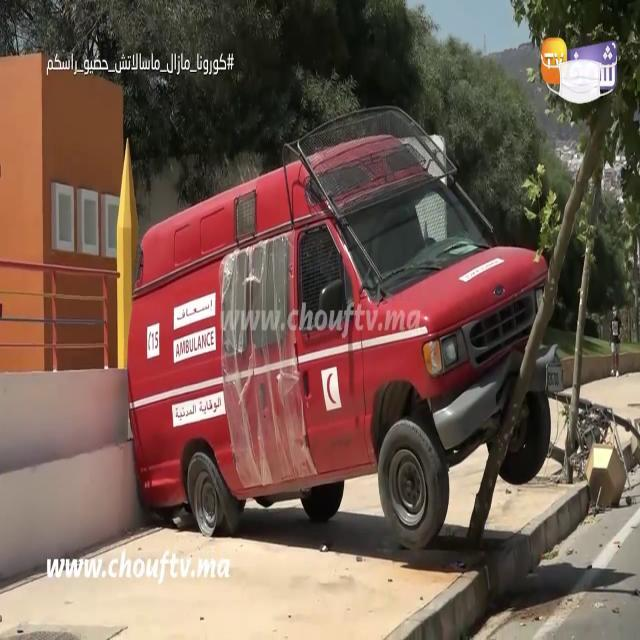ambulance: (120, 119, 552, 552)
